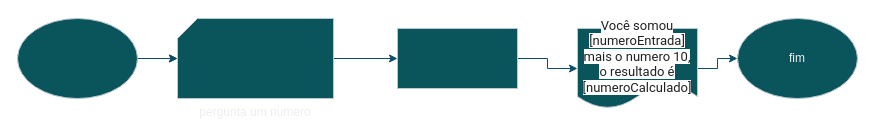
Image size: 875x136. Some labels were removed from this diagram. The box of each missing label's shape, as (x1, y1, x2, y2) in pixels:
inicio: (16, 18, 138, 98)
somar numero + 10: (396, 28, 518, 88)
